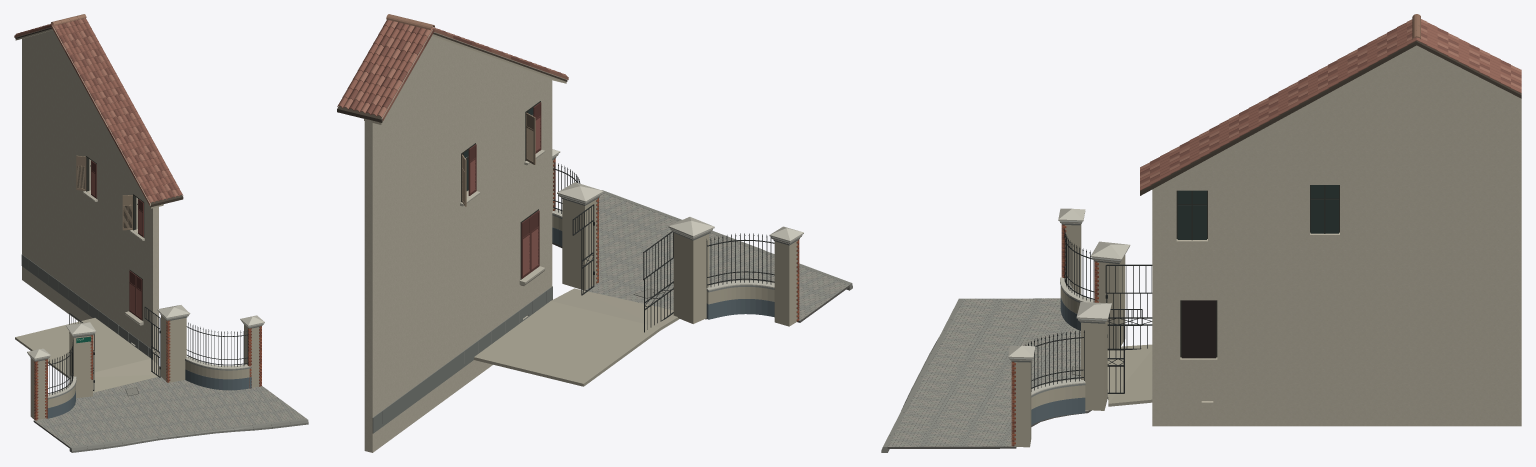
File: huangpu-hefei-592-east-lane-house-lod.glb
3 renders of one model, left to right at view 1: azimuth 30°, elevation 25°; view 2: azimuth 150°, elevation 25°; view 3: azimuth 270°, elevation 25°, orthographic. The views are drawn at different scales.
Parts seen in each view (by area): view 1: 合肥路592弄弄口与东侧山墙; view 2: 合肥路592弄弄口与东侧山墙; view 3: 合肥路592弄弄口与东侧山墙.
Part boxes in pixels (x1,y1,x2,y2): 合肥路592弄弄口与东侧山墙: (14,14,308,452); 合肥路592弄弄口与东侧山墙: (337,14,852,452); 合肥路592弄弄口与东侧山墙: (881,14,1521,452).
Size of the model in its own units: 9.19 by 11.82 by 16.98.
Materials: 41 (1 with a texture image).
